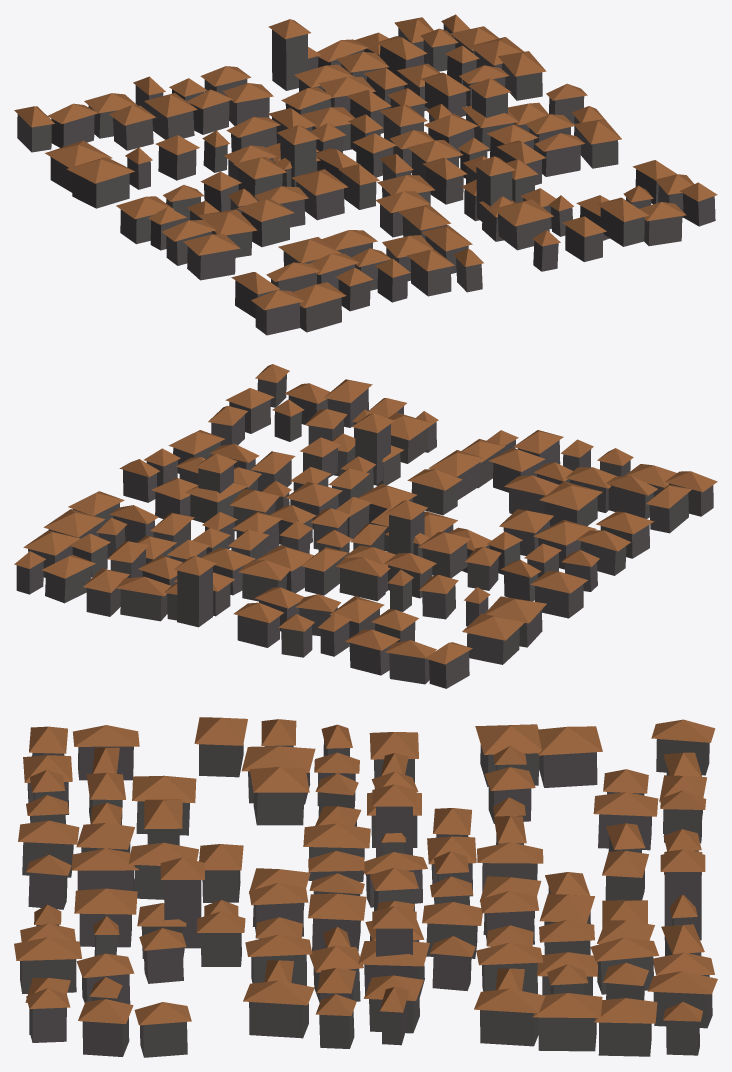
3 renders of one model, top to bottom at view 1: azimuth 30°, elevation 25°; view 2: azimuth 150°, elevation 25°; view 3: azimuth 270°, elevation 25°, orthographic. The views are drawn at different scales.
Parts seen in each view (by area): view 1: Cube.151; view 2: Cube.151; view 3: Cube.151.
Part boxes in pixels (x1,y1,x2,y2): Cube.151: (14, 14, 717, 335); Cube.151: (14, 364, 717, 688); Cube.151: (14, 717, 717, 1057).
Size of the model in its own units: 3633 by 554 by 3659.
